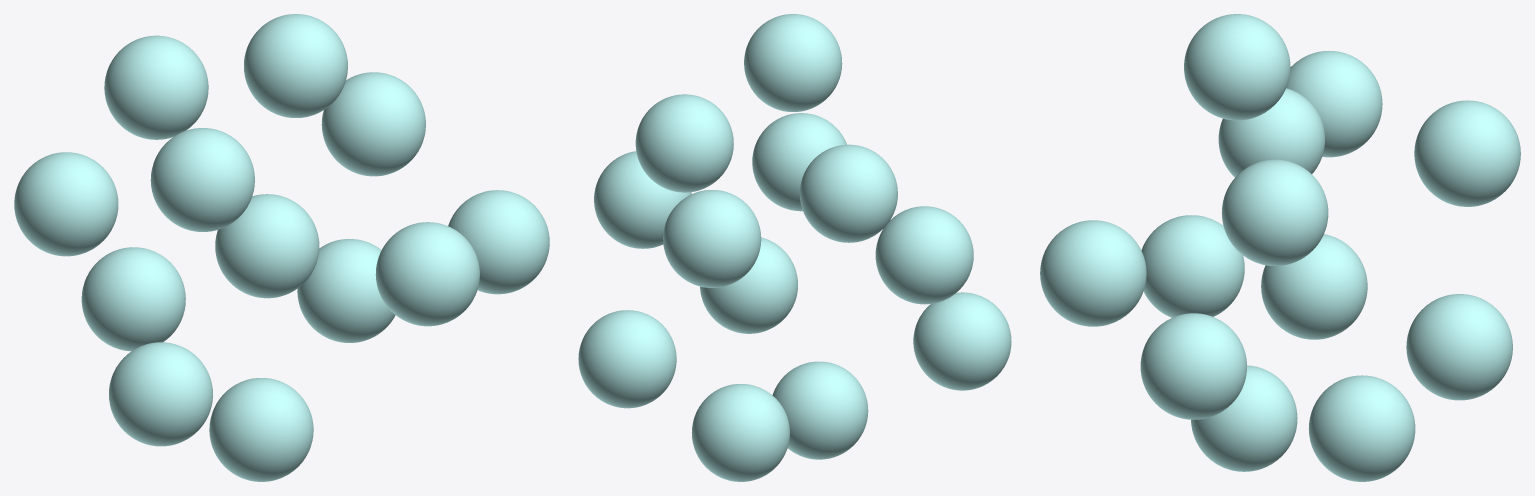
File: Snowballs_arrows.fbx
The picture shows the model from 3 angles, left to right: view 1: azimuth 30°, elevation 25°; view 2: azimuth 150°, elevation 25°; view 3: azimuth 270°, elevation 25°; orthographic projection. The views are drawn at different scales.
Parts seen in each view (by area): view 1: Fwmove_snowball.004, Fwmove_snowball.011, Fwmove_snowball.003, Fwmove_snowball.006, Fwmove_snowball.008, Fwmove_snowball.001, Fwmove_snowball.010, Fwmove_snowball.007, Fwmove_snowball.002, Fwmove_snowball, Fwmove_snowball.009, Fwmove_snowball.005; view 2: Fwmove_snowball.011, Fwmove_snowball.002, Fwmove_snowball.005, Fwmove_snowball.001, Fwmove_snowball.008, Fwmove_snowball.010, Fwmove_snowball.007, Fwmove_snowball.003, Fwmove_snowball.004, Fwmove_snowball.009, Fwmove_snowball, Fwmove_snowball.006; view 3: Fwmove_snowball.008, Fwmove_snowball.006, Fwmove_snowball.009, Fwmove_snowball.010, Fwmove_snowball.005, Fwmove_snowball.007, Fwmove_snowball.002, Fwmove_snowball.003, Fwmove_snowball, Fwmove_snowball.004, Fwmove_snowball.011, Fwmove_snowball.001.
Boxes of the visible parts, x1=… form: Fwmove_snowball.004: x1=209, y1=378, x2=313, y2=481; Fwmove_snowball.011: x1=14, y1=152, x2=118, y2=256; Fwmove_snowball.003: x1=109, y1=342, x2=212, y2=446; Fwmove_snowball.006: x1=375, y1=222, x2=479, y2=326; Fwmove_snowball.008: x1=104, y1=35, x2=208, y2=139; Fwmove_snowball.001: x1=150, y1=128, x2=254, y2=231; Fwmove_snowball.010: x1=244, y1=14, x2=347, y2=117; Fwmove_snowball.007: x1=81, y1=247, x2=185, y2=351; Fwmove_snowball.002: x1=321, y1=72, x2=425, y2=176; Fwmove_snowball: x1=215, y1=194, x2=319, y2=298; Fwmove_snowball.009: x1=448, y1=190, x2=549, y2=294; Fwmove_snowball.005: x1=297, y1=239, x2=395, y2=342; Fwmove_snowball.011: x1=875, y1=206, x2=973, y2=304; Fwmove_snowball.002: x1=635, y1=94, x2=733, y2=192; Fwmove_snowball.005: x1=578, y1=310, x2=676, y2=408; Fwmove_snowball.001: x1=799, y1=144, x2=897, y2=242; Fwmove_snowball.008: x1=663, y1=190, x2=761, y2=287; Fwmove_snowball.010: x1=744, y1=14, x2=842, y2=111; Fwmove_snowball.007: x1=692, y1=384, x2=789, y2=481; Fwmove_snowball.003: x1=913, y1=292, x2=1011, y2=390; Fwmove_snowball.004: x1=772, y1=361, x2=868, y2=459; Fwmove_snowball.009: x1=594, y1=151, x2=691, y2=248; Fwmove_snowball: x1=700, y1=237, x2=797, y2=333; Fwmove_snowball.006: x1=752, y1=113, x2=846, y2=211; Fwmove_snowball.008: x1=1414, y1=100, x2=1520, y2=206; Fwmove_snowball.006: x1=1040, y1=220, x2=1146, y2=326; Fwmove_snowball.009: x1=1140, y1=313, x2=1246, y2=419; Fwmove_snowball.010: x1=1184, y1=14, x2=1290, y2=120; Fwmove_snowball.005: x1=1308, y1=375, x2=1415, y2=481; Fwmove_snowball.007: x1=1406, y1=294, x2=1512, y2=400; Fwmove_snowball.002: x1=1222, y1=159, x2=1328, y2=265; Fwmove_snowball.003: x1=1141, y1=215, x2=1244, y2=317; Fwmove_snowball: x1=1261, y1=234, x2=1367, y2=339; Fwmove_snowball.004: x1=1191, y1=365, x2=1297, y2=471; Fwmove_snowball.011: x1=1286, y1=50, x2=1382, y2=157; Fwmove_snowball.001: x1=1218, y1=88, x2=1324, y2=177.
Bounding box in the file's own units: 246 × 234 × 220.
